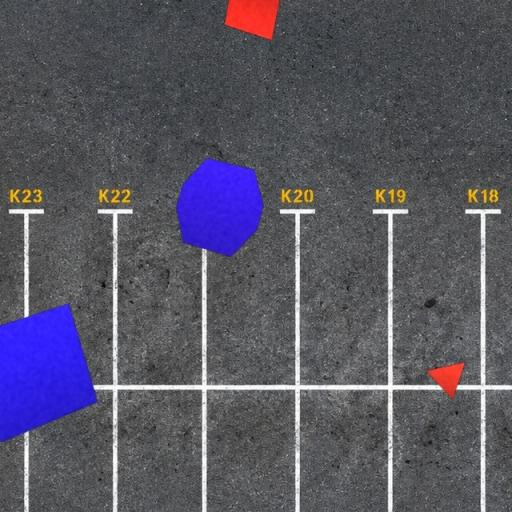BLUE_SQUARE: (0, 303, 98, 443)
RED_SQUARE: (224, 0, 282, 41)
